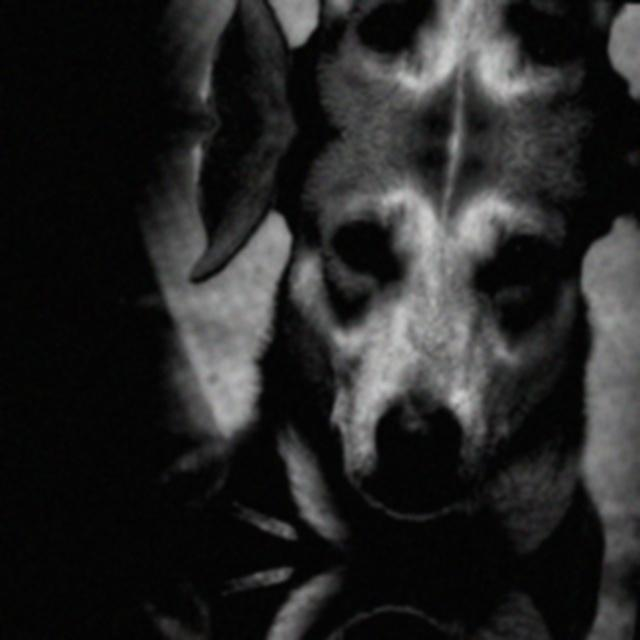dog: (152, 121, 640, 519), (195, 0, 640, 159), (127, 602, 596, 640)
